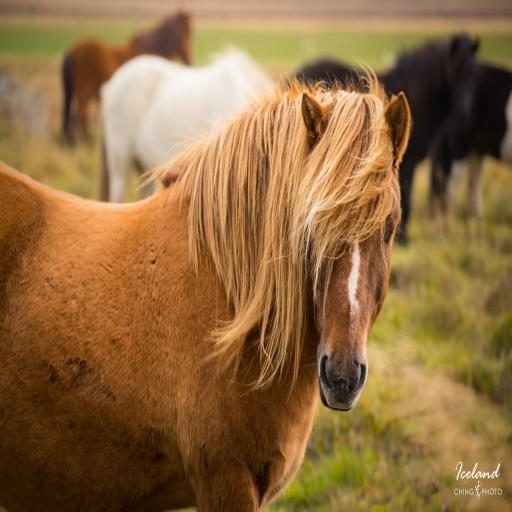Horse: (0, 9, 512, 512)
